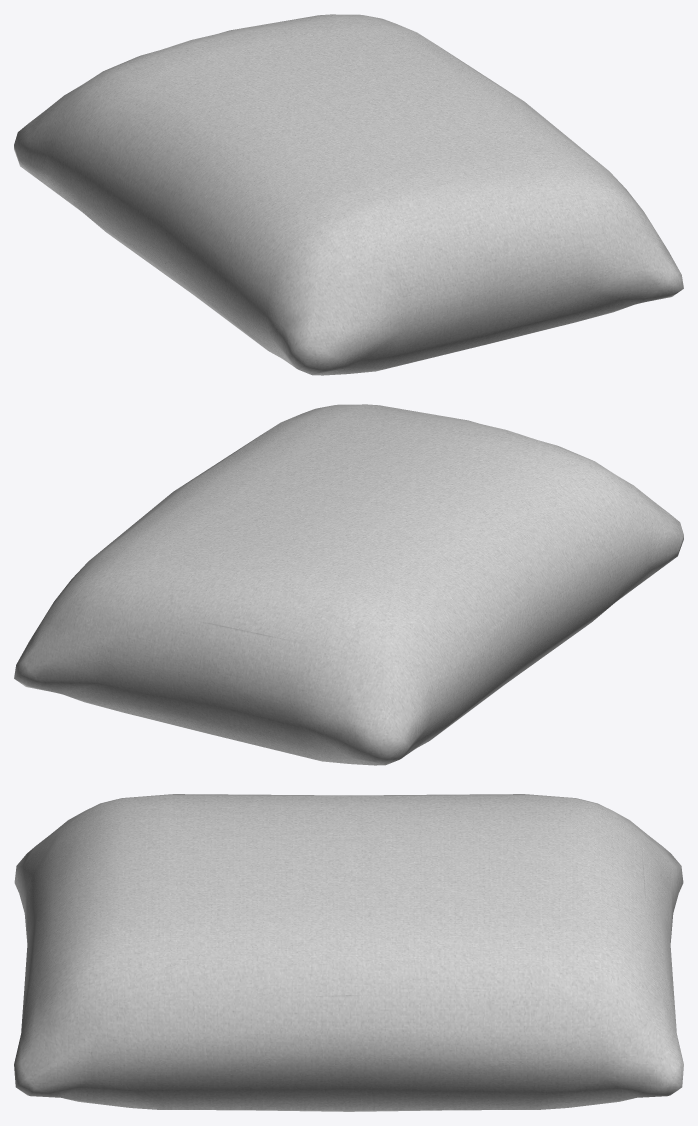
Rendered from pillow.fbx.
3 views of the same model, one above another, from view 1: azimuth 30°, elevation 25°; view 2: azimuth 150°, elevation 25°; view 3: azimuth 270°, elevation 25° (orthographic). The views are drawn at different scales.
Visible parts, largest first — view 1: pillow export; view 2: pillow export; view 3: pillow export.
Boxes of the visible parts, x1,y1,x2,y2 form: pillow export: (14, 14, 683, 375); pillow export: (14, 404, 683, 765); pillow export: (14, 794, 683, 1111).
Bounding box in the file's own units: 80.02 × 35.71 × 107.
